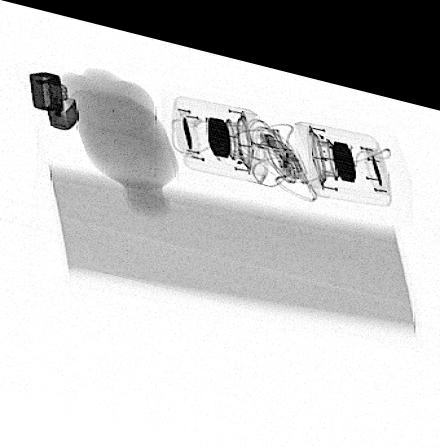Lighter: (30, 69, 80, 127)
